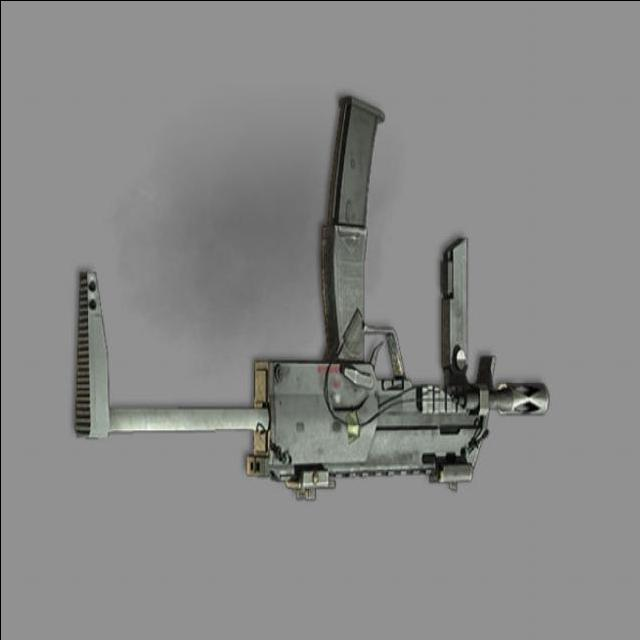smg: (73, 87, 555, 505)
